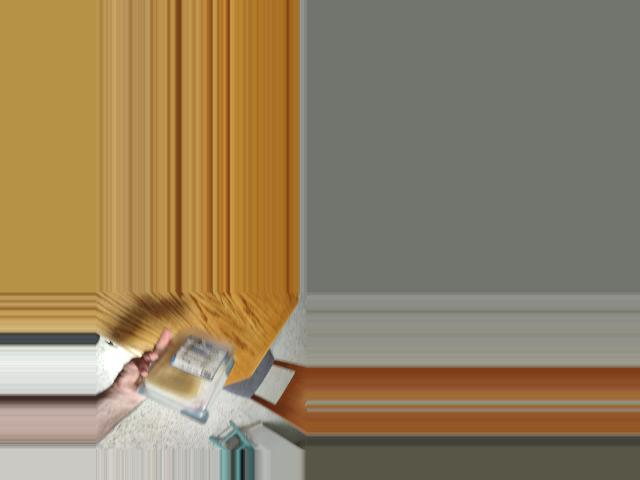cheese: (139, 338, 242, 417)
